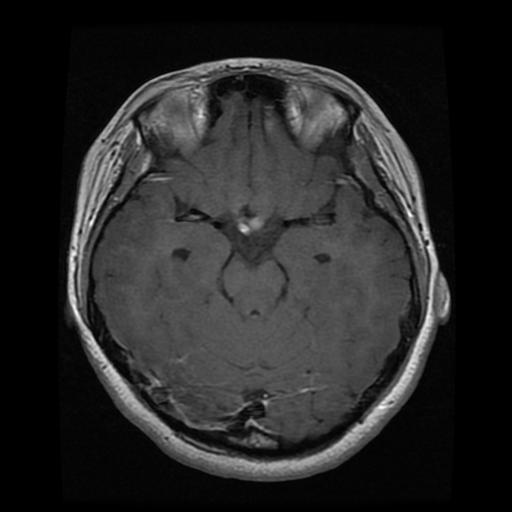Pituirity_tumour: (236, 216, 264, 235)
